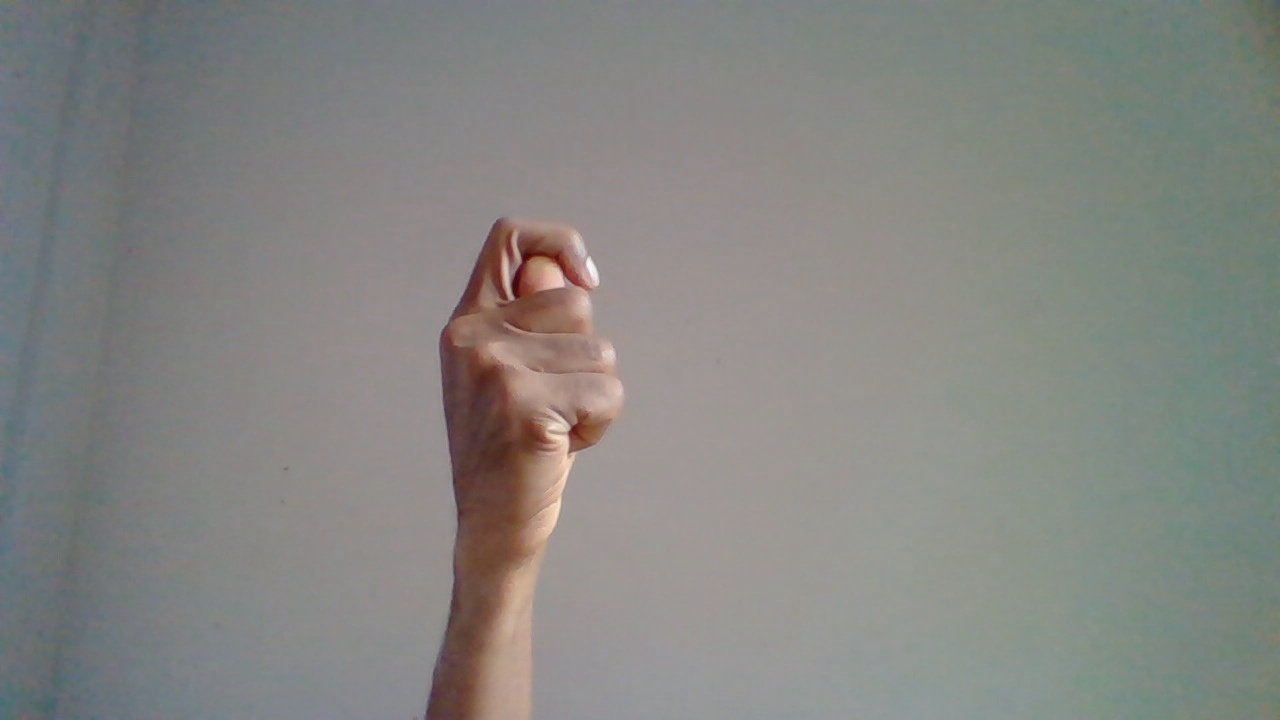che: (437, 220, 634, 685)
